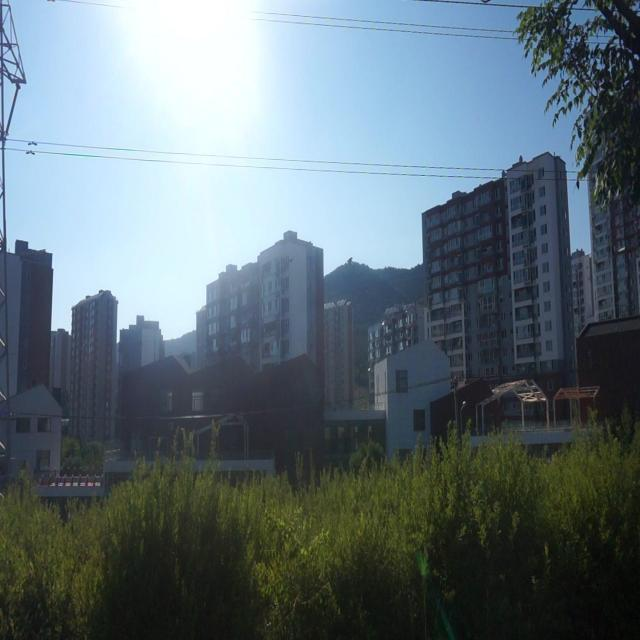UAV: (347, 257, 353, 264)
